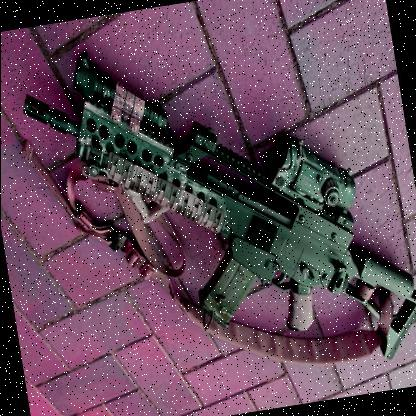rifle: (31, 27, 416, 406)
